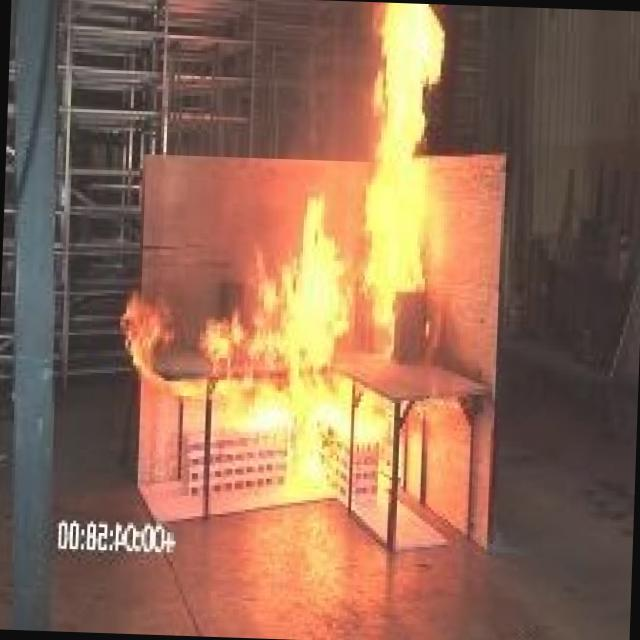fire: (169, 0, 494, 567)
